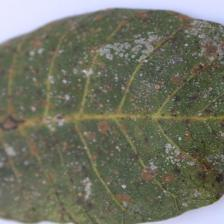red rust: (0, 6, 223, 223)
